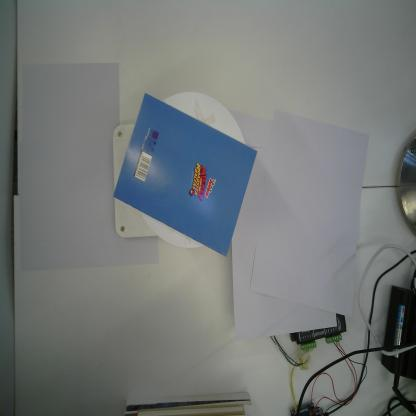Stationery: (112, 93, 258, 258)
